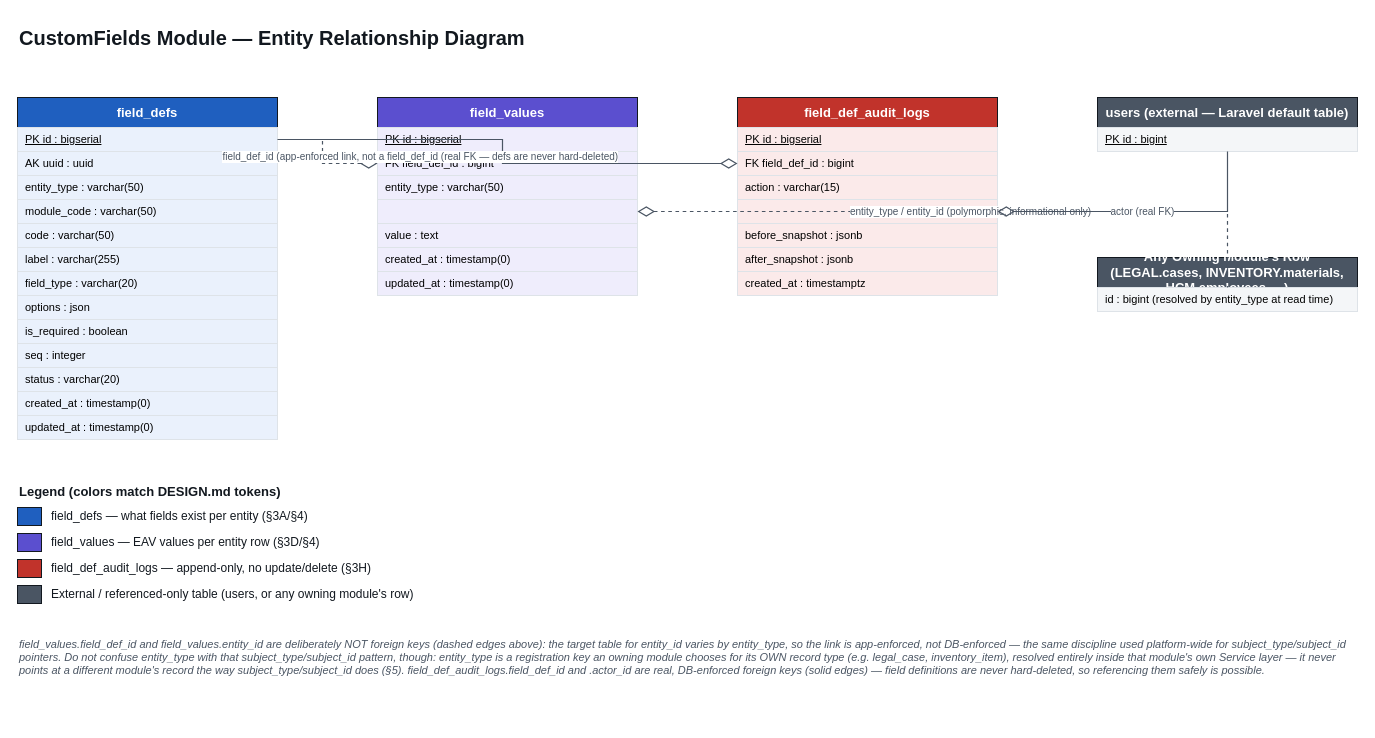
Image size: 1375x738. Some labels were removed from this diagram. Each missing label, with the centre of its shape:
entity_id : bigint: (507,211)
FK actor_id : bigint: (867,211)
